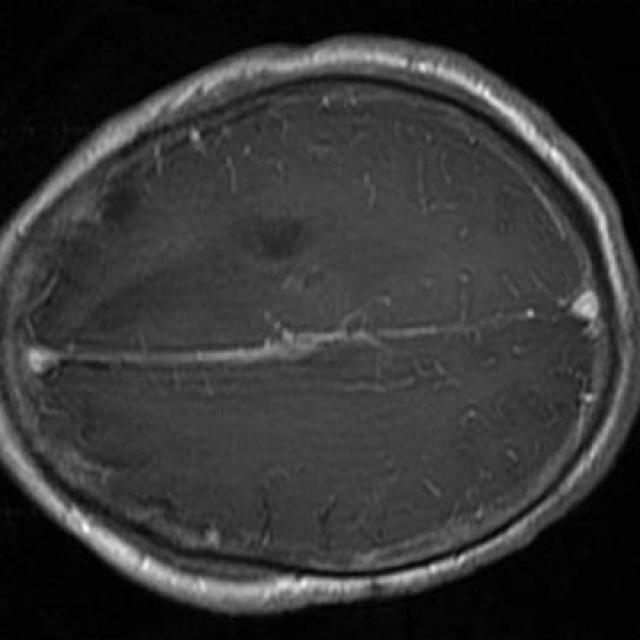glioma: (248, 217, 305, 258)
